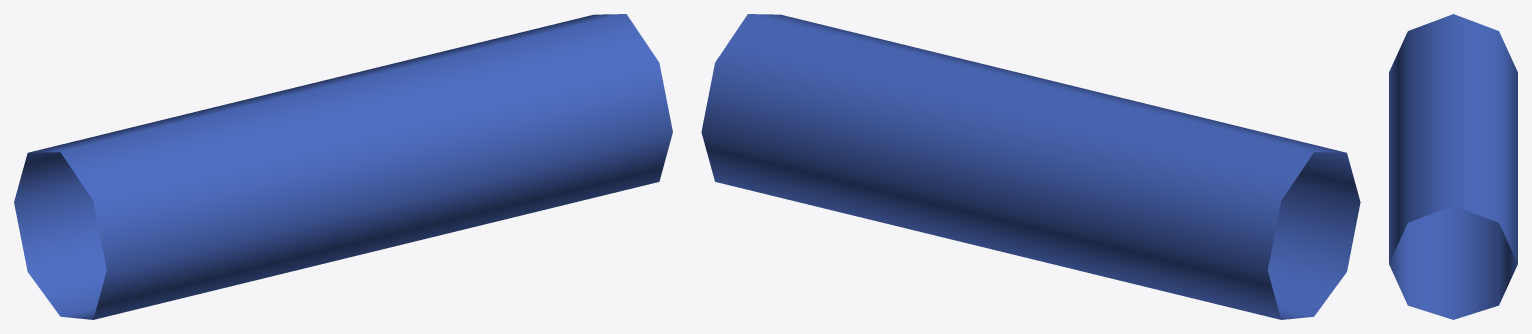
Rendered from Pipe_1_D_1_1.fbx.
The picture shows the model from 3 angles, left to right: view 1: azimuth 30°, elevation 25°; view 2: azimuth 150°, elevation 25°; view 3: azimuth 270°, elevation 25°; orthographic projection. The views are drawn at different scales.
Parts seen in each view (by area): view 1: Pipe_1_D_1_1; view 2: Pipe_1_D_1_1; view 3: Pipe_1_D_1_1.
Part boxes in pixels (bbox=[...]): Pipe_1_D_1_1: bbox=[14, 14, 672, 319]; Pipe_1_D_1_1: bbox=[701, 14, 1360, 319]; Pipe_1_D_1_1: bbox=[1389, 14, 1517, 319].
Size of the model in its own units: 76.72 by 21.31 by 21.8.
